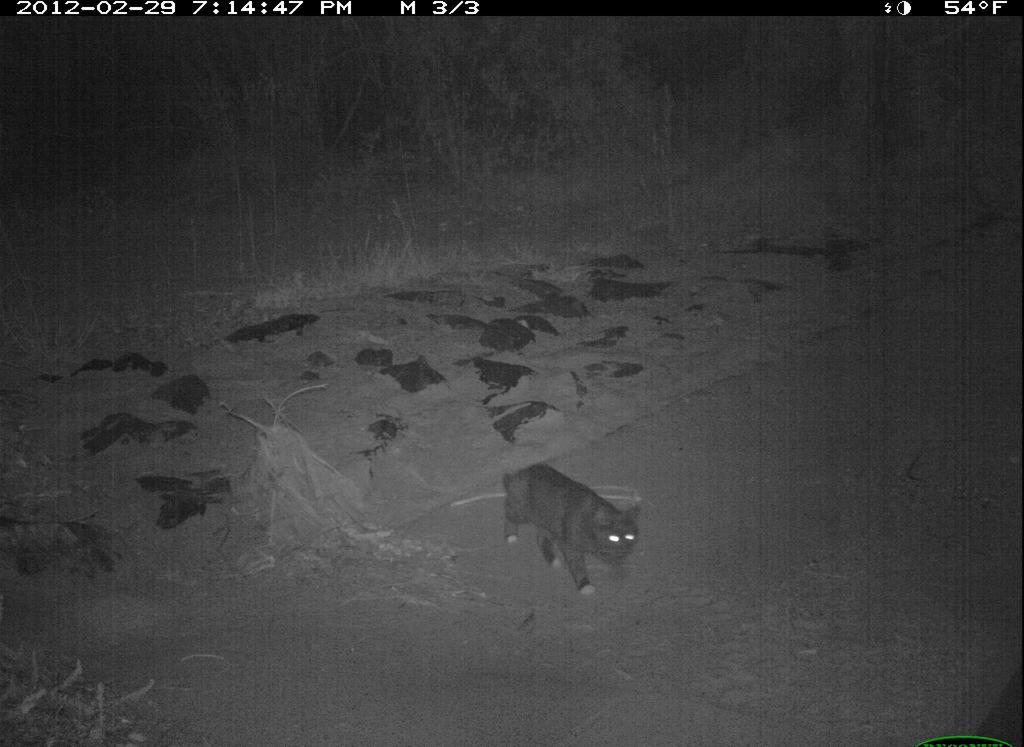cat: (494, 447, 650, 612)
